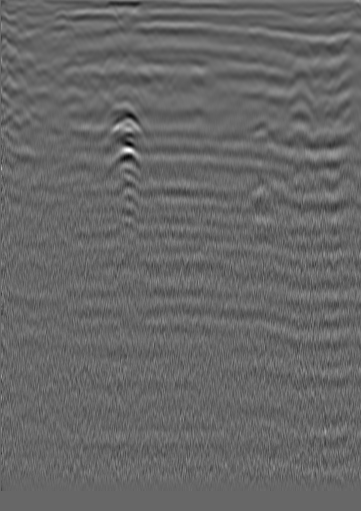가스: (103, 147, 140, 178)
상수: (29, 26, 49, 46)
오수: (299, 25, 319, 45)
우수: (167, 38, 187, 58)
